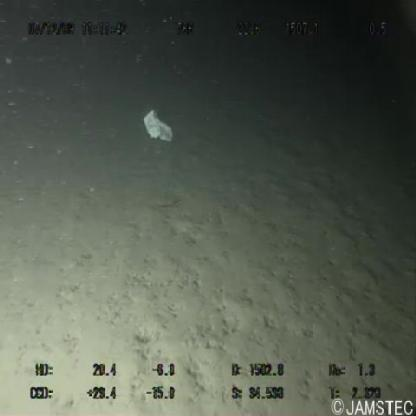Rác: (138, 104, 178, 146)
